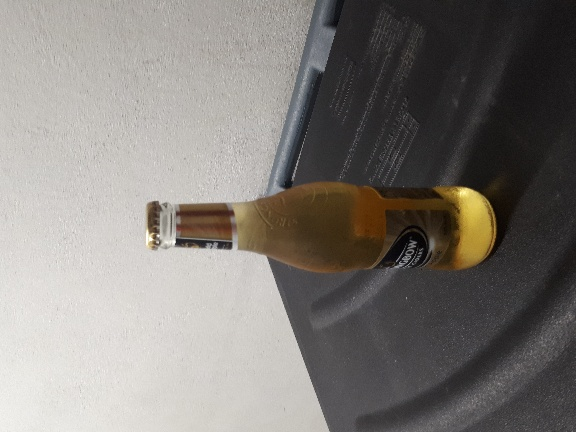SGB: (102, 131, 363, 200)
